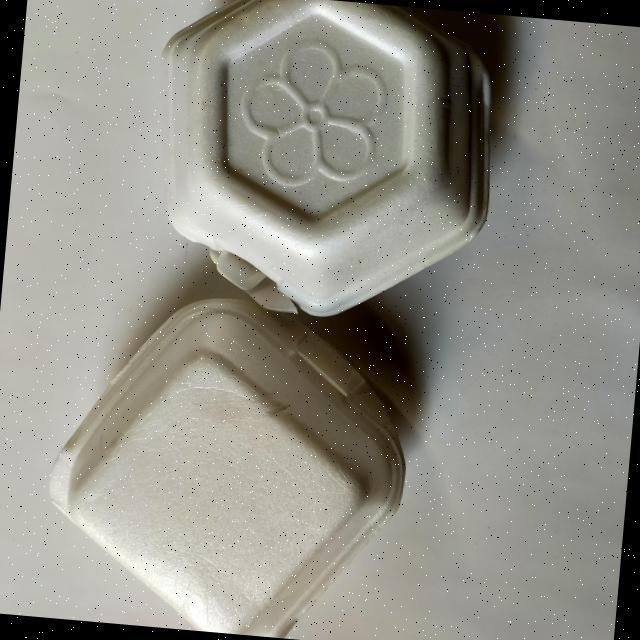styrofoam: (36, 281, 420, 640), (138, 0, 506, 331)
